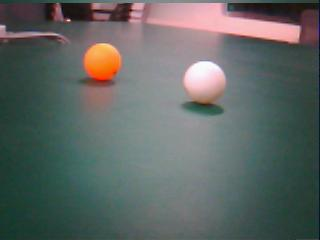oball: (84, 43, 121, 80)
